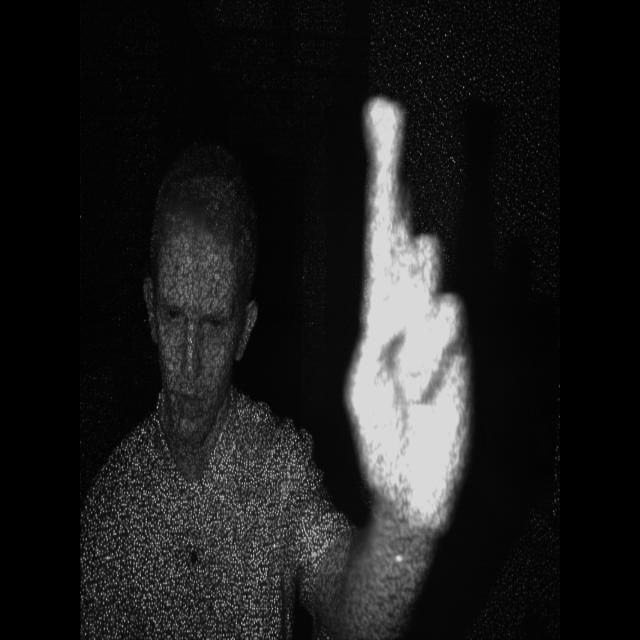R: (335, 80, 483, 547)
